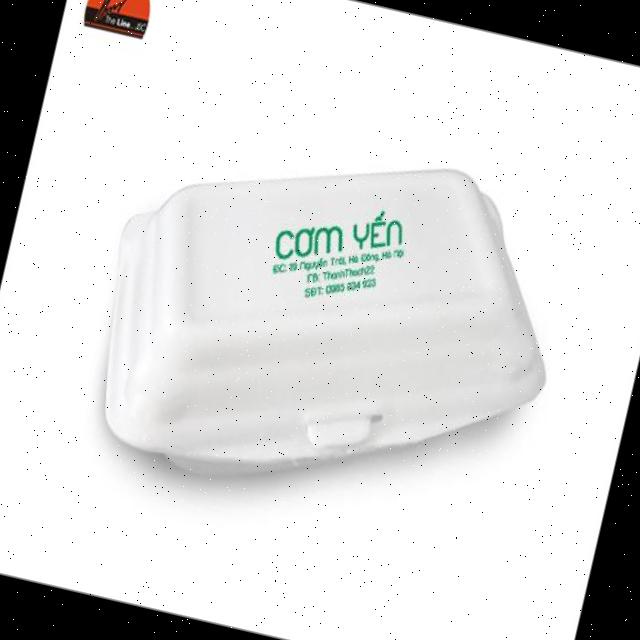styrofoam: (71, 93, 588, 546)
